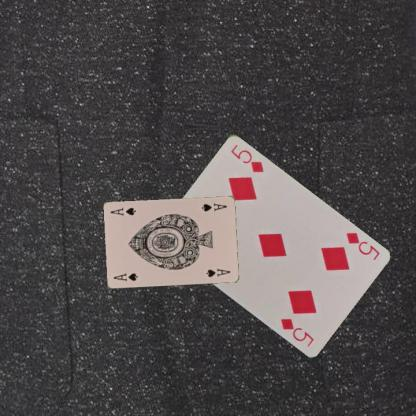5d: (343, 230, 381, 262)
As: (199, 200, 228, 213), (111, 270, 139, 282)
